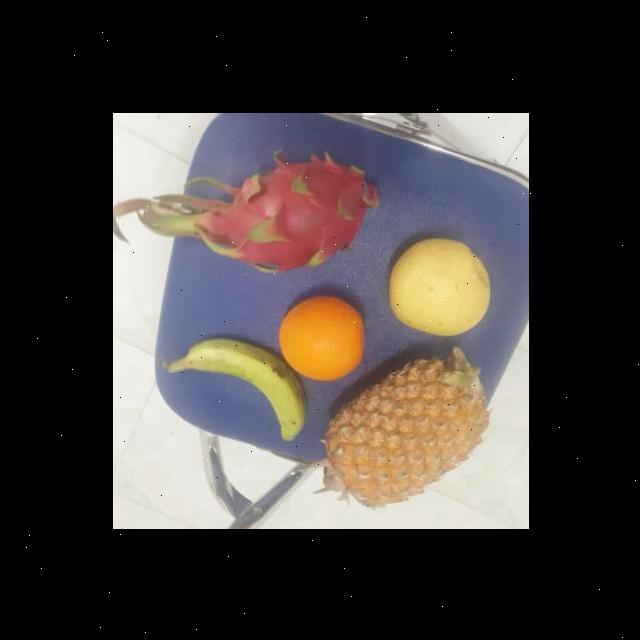banana: (174, 334, 316, 438)
guava: (389, 235, 493, 333)
pear: (276, 294, 368, 380)
pineapple: (326, 347, 487, 502)
pitaya: (203, 151, 390, 275)
